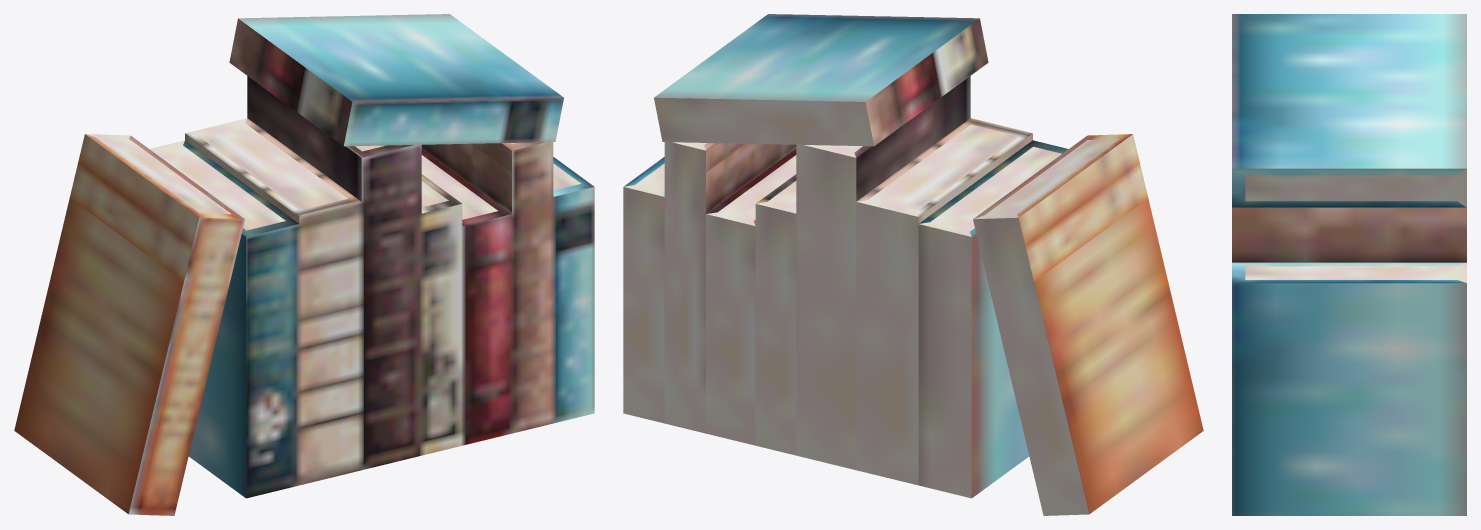
Rendered from books_alt2.obj.
The picture shows the model from 3 angles, left to right: view 1: azimuth 30°, elevation 25°; view 2: azimuth 150°, elevation 25°; view 3: azimuth 270°, elevation 25°; orthographic projection. The views are drawn at different scales.
Visible parts, largest first — view 1: books_alt2; view 2: books_alt2; view 3: books_alt2.
Boxes of the visible parts, x1,y1,x2,y2 form: books_alt2: (14,14,594,515); books_alt2: (623,14,1203,515); books_alt2: (1232,14,1466,515).
Size of the model in its own units: 0.5295 by 0.4023 by 0.225.
